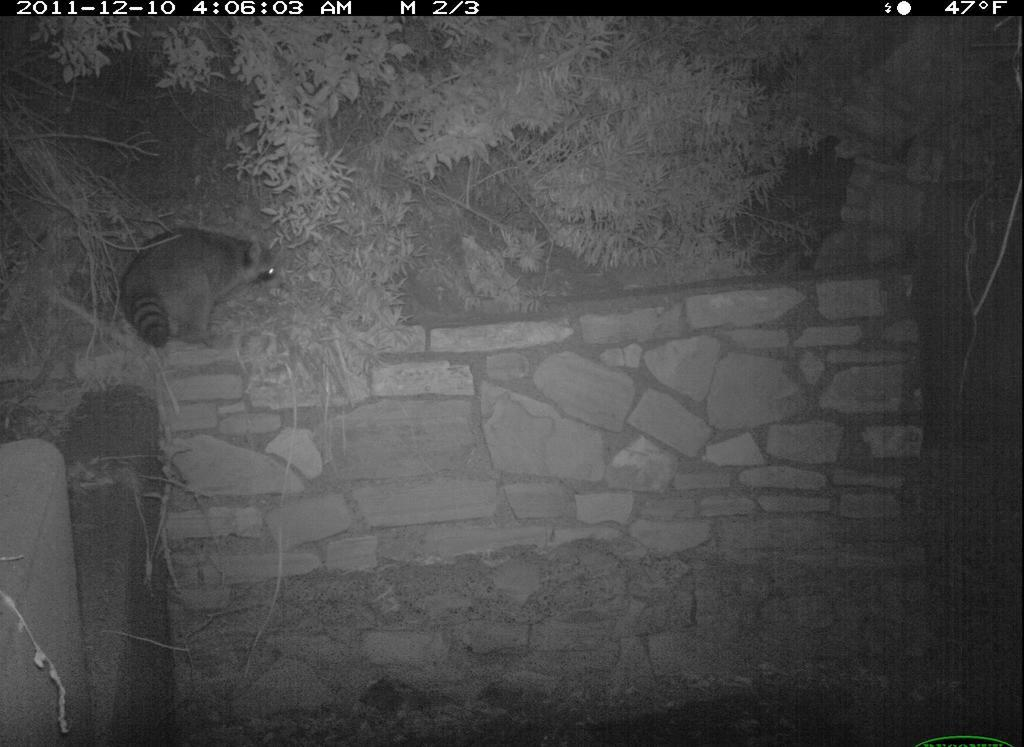raccoon: (107, 217, 306, 358)
